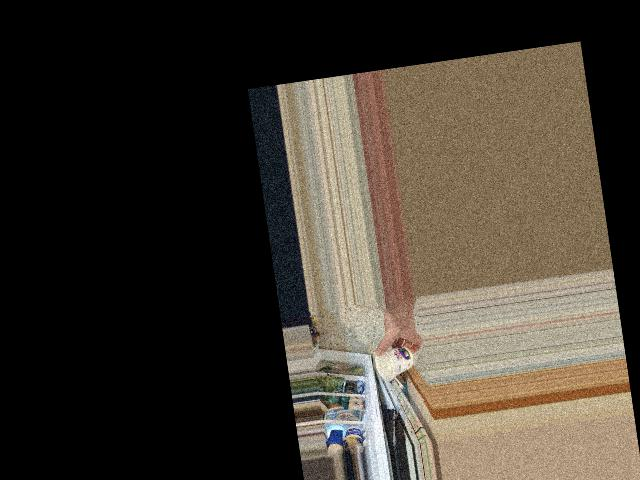cotage: (371, 339, 417, 383)
